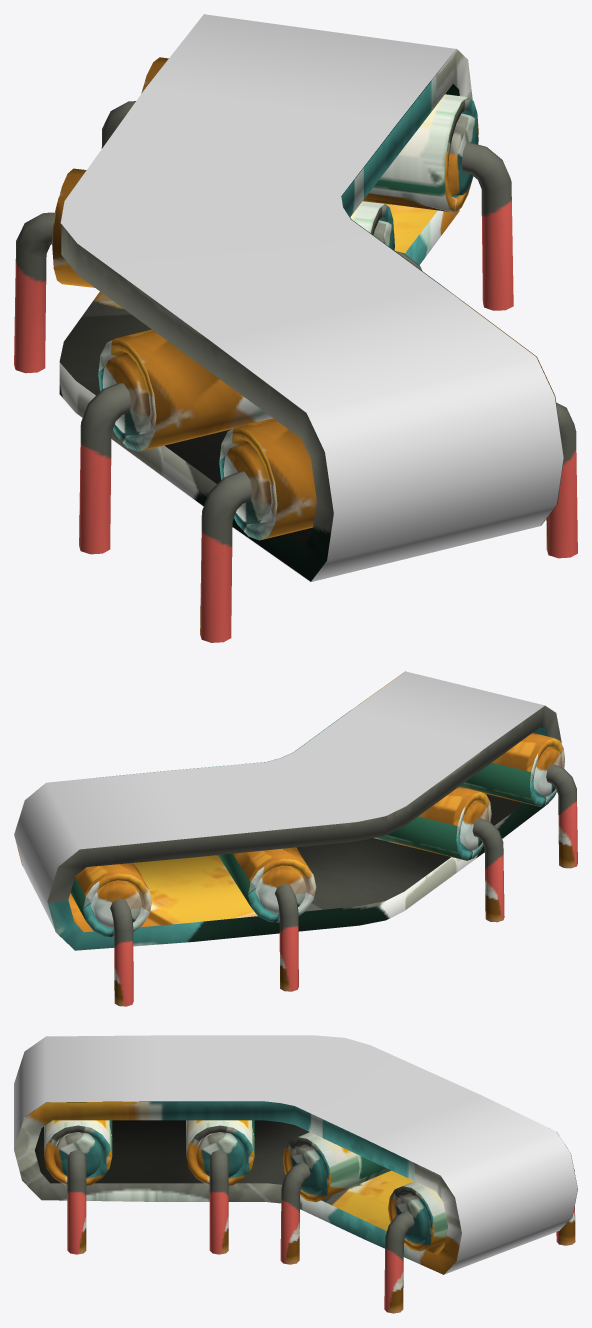
The model's file is Mounted45ConveyorBelt.fbx.
3 views of the same model, one above another, from view 1: azimuth 30°, elevation 25°; view 2: azimuth 150°, elevation 25°; view 3: azimuth 270°, elevation 25° (orthographic). The views are drawn at different scales.
Parts seen in each view (by area): view 1: Mounted45ConveyorBelt; view 2: Mounted45ConveyorBelt; view 3: Mounted45ConveyorBelt.
Part boxes in pixels (x1,y1,x2,y2): Mounted45ConveyorBelt: [14, 14, 577, 642]; Mounted45ConveyorBelt: [14, 671, 577, 1006]; Mounted45ConveyorBelt: [14, 1035, 577, 1313].
Bounding box in the file's own units: 3.43 × 1.25 × 4.76.
